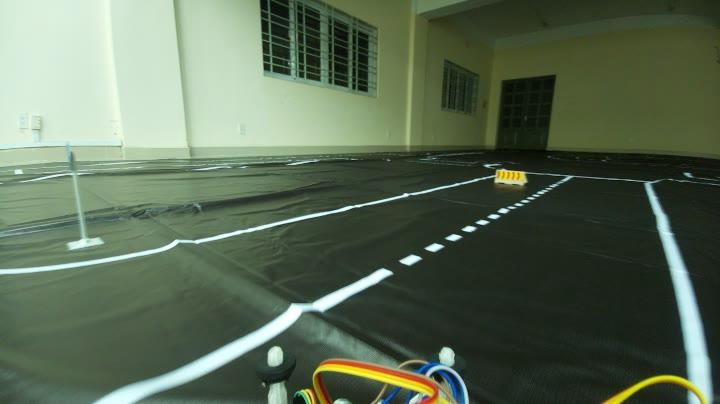roadblock: (488, 167, 528, 190)
